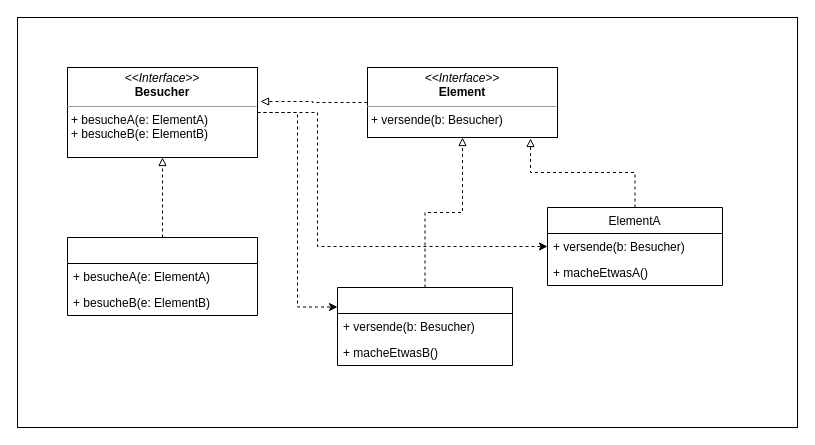
Image size: 815x445. Some labels were removed from this diagram. The box of each missing label's shape, as (x1, y1, x2, y2) in pixels:
ElementB: (336, 286, 512, 366)
KonkreterBesucher: (66, 236, 258, 316)
